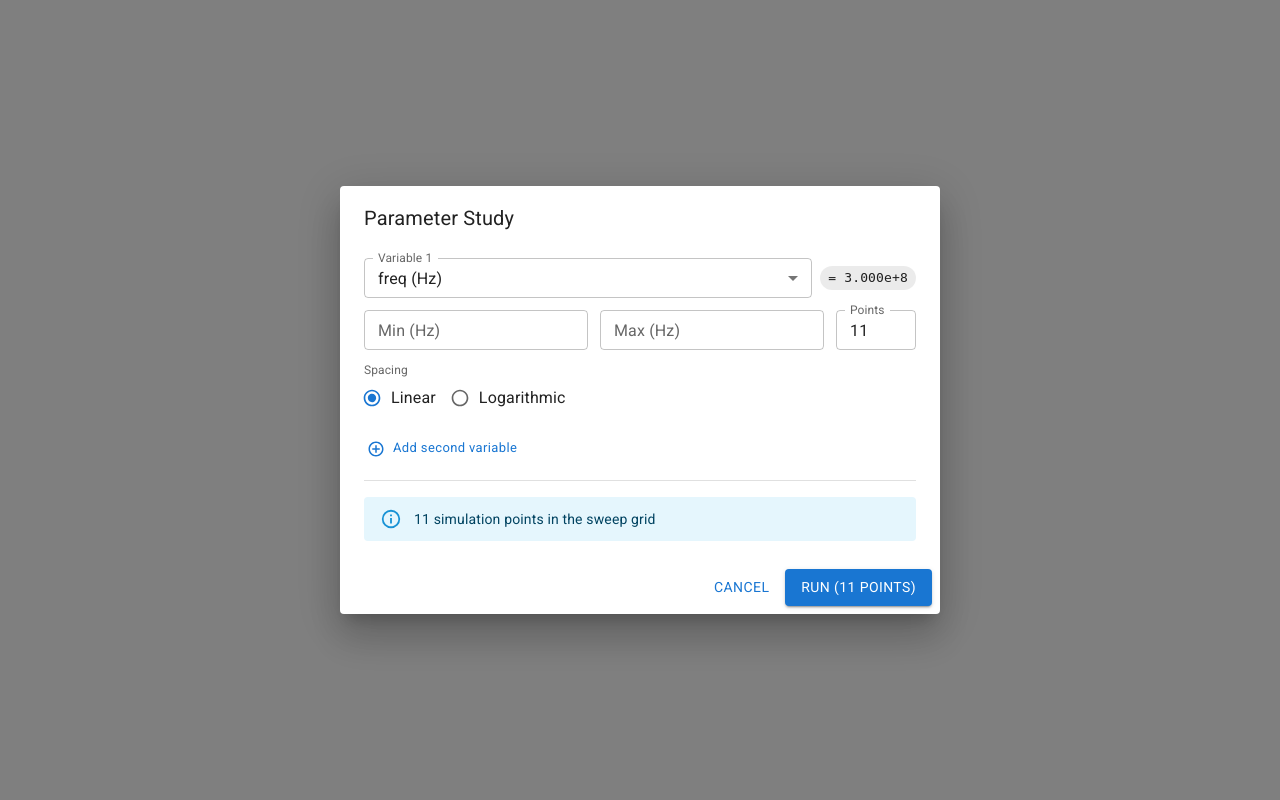
ParameterStudyDialog › Variable Selection › lists available variables in dropdown
The image size is (1280, 800).
Note: Open the Variable 1 dropdown (MUI Select)
Click the dropdown named "Variable 1" at (410, 278), box x1=378 y1=269 x2=442 y2=288
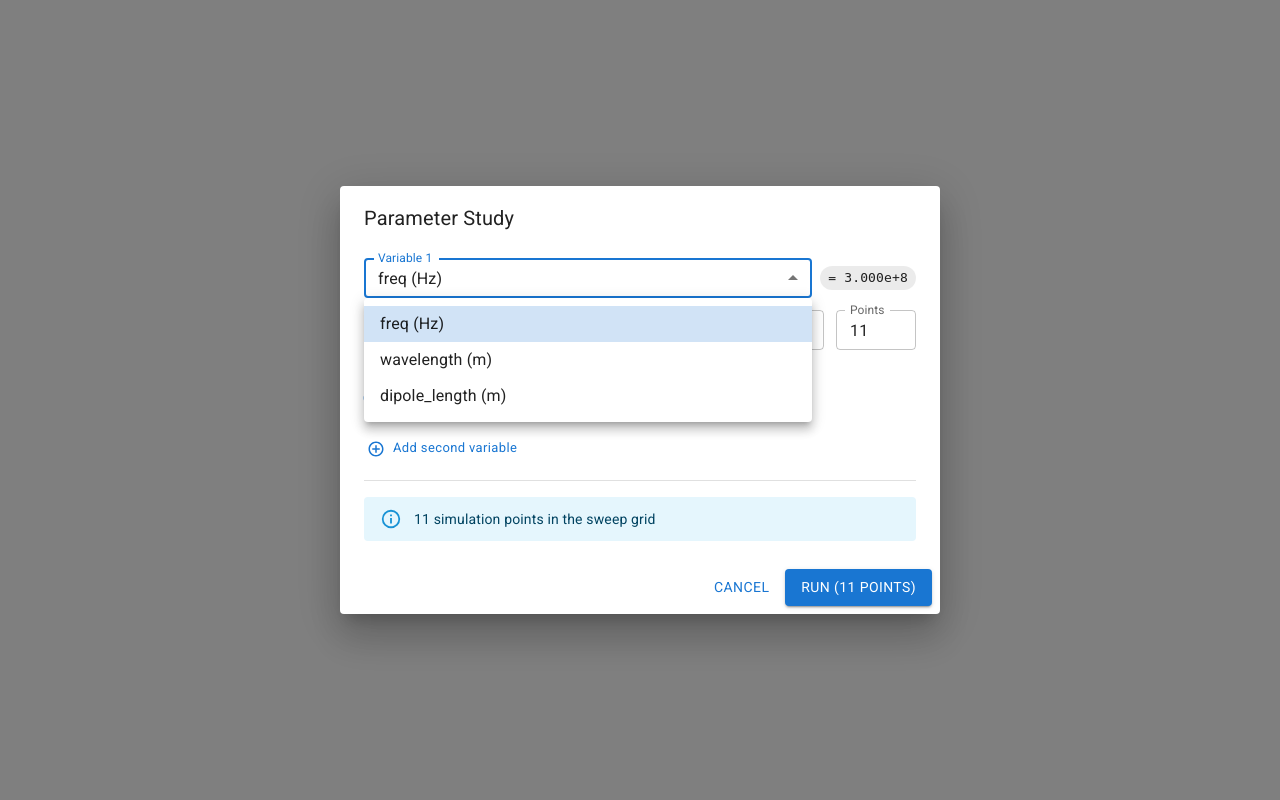
Expected: the option "freq (Hz)" is shown, x1=364 y1=306 x2=812 y2=342
